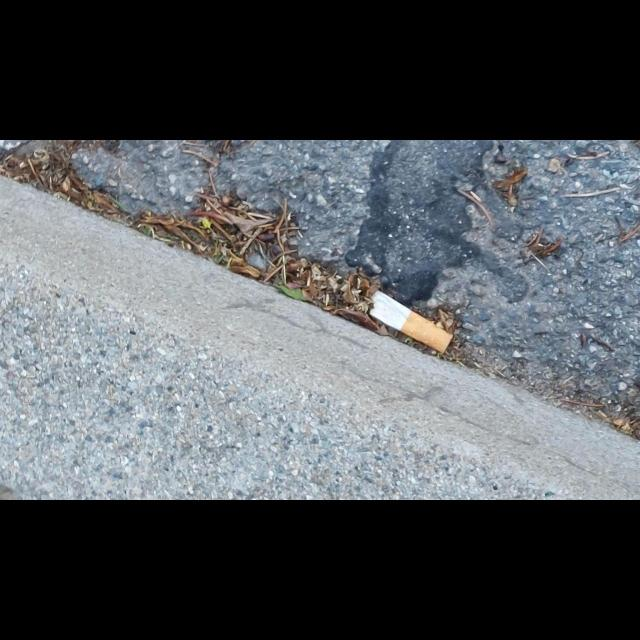cigarette: (369, 289, 455, 355)
